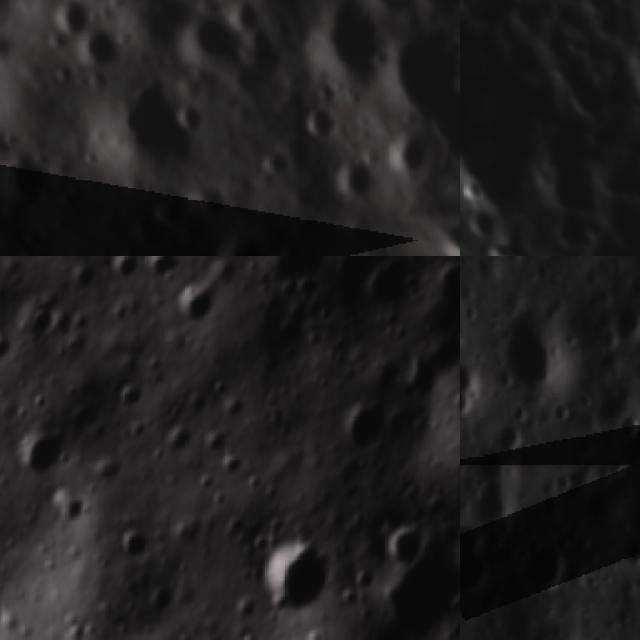crater: (490, 300, 578, 412), (257, 535, 333, 611), (507, 536, 578, 610), (417, 256, 460, 363), (251, 256, 342, 303), (0, 146, 51, 220), (330, 394, 393, 452), (373, 519, 434, 574), (326, 155, 382, 214), (9, 427, 69, 480), (164, 278, 223, 328), (50, 0, 105, 50), (381, 131, 430, 185), (202, 223, 282, 256), (296, 100, 346, 152), (82, 25, 134, 73), (148, 186, 196, 235), (107, 368, 153, 418), (489, 411, 535, 459), (20, 297, 66, 343), (166, 99, 210, 144), (230, 1, 274, 43), (256, 144, 298, 185), (119, 522, 158, 564), (200, 182, 239, 219), (466, 204, 504, 238), (611, 408, 640, 448), (614, 532, 640, 576), (460, 171, 492, 205), (199, 425, 231, 459), (218, 452, 248, 483), (509, 0, 538, 7)
